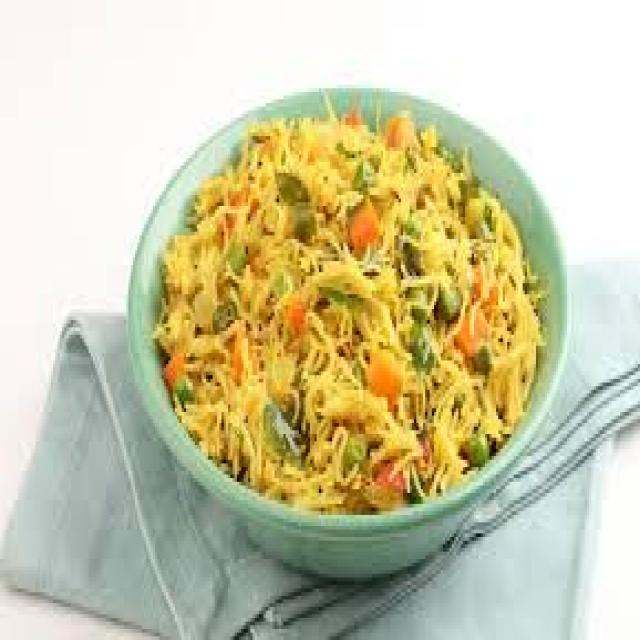POHA: (148, 107, 540, 504)
